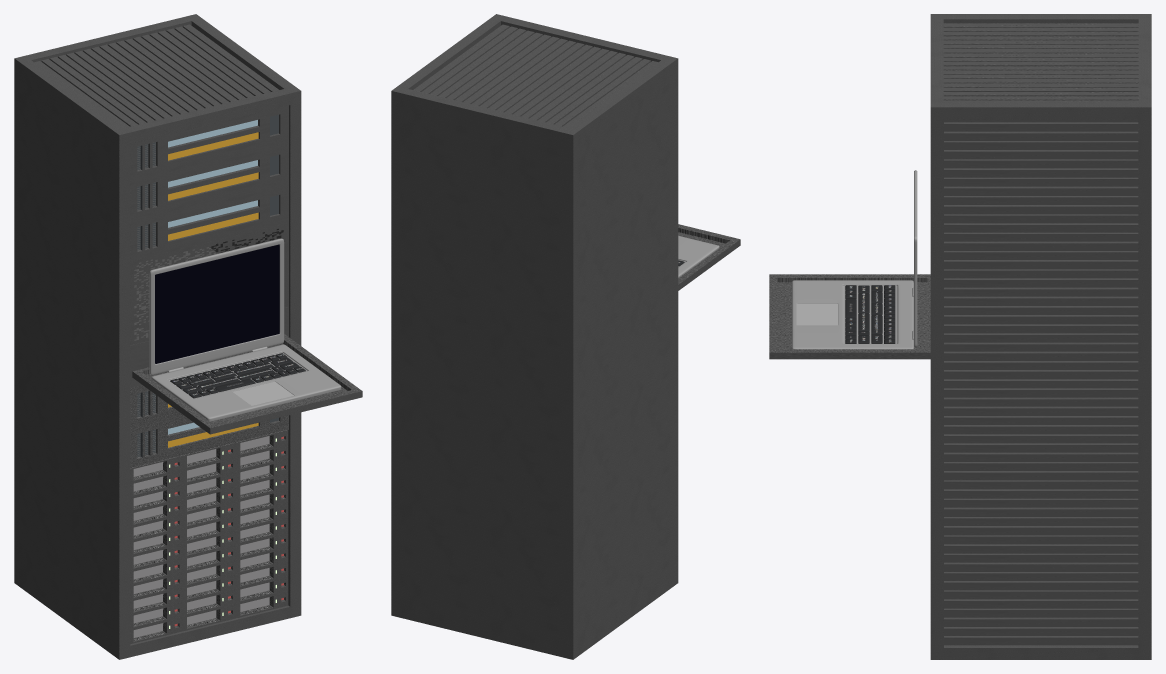
Rendered from Server.glb.
3 views of the same model, side by side, from view 1: azimuth 30°, elevation 25°; view 2: azimuth 150°, elevation 25°; view 3: azimuth 270°, elevation 25° (orthographic). The views are drawn at different scales.
Visible parts, largest first — view 1: Cube, Cube.003, Laptop Notebook Computer.002, Cube.004, Cube.002, Cube.009, Cube.008, Cube.013, Cube.007; view 2: Cube, Cube.002, Cube.013, Laptop Notebook Computer.002; view 3: Cube.001, Cube, Cube.002, Laptop Notebook Computer.002, Cube.013.
Part boxes in pixels (x1,y1,x2,y2): Cube: (14,14,301,659); Cube.003: (130,430,288,643); Laptop Notebook Computer.002: (149,238,341,421); Cube.004: (130,105,288,261); Cube.002: (34,24,278,127); Cube.009: (130,385,288,467); Cube.008: (130,222,288,345); Cube.013: (132,334,362,434); Cube.007: (130,307,288,387); Cube: (391,14,678,659); Cube.002: (413,24,657,127); Cube.013: (678,224,740,290); Laptop Notebook Computer.002: (678,235,719,277); Cube.001: (944,119,1138,645); Cube: (930,14,1151,659); Cube.002: (943,23,1138,101); Laptop Notebook Computer.002: (792,170,917,349); Cube.013: (769,274,930,359).
Size of the model in its own units: 2 by 5.52 by 3.46.
13 materials, 4 textured.
